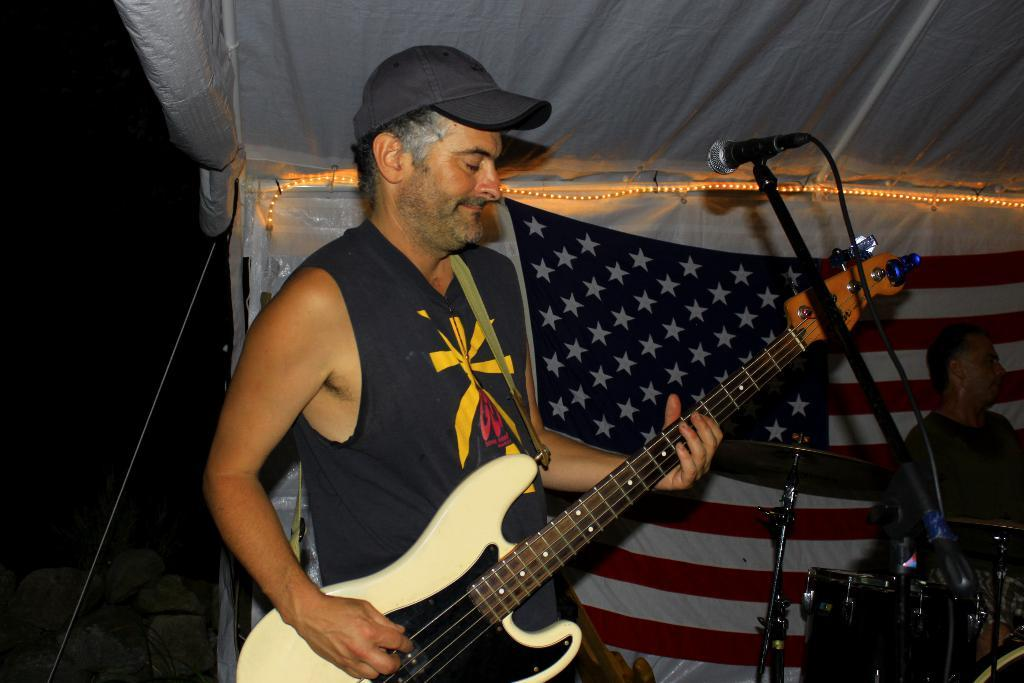Hat: (351, 44, 552, 144)
